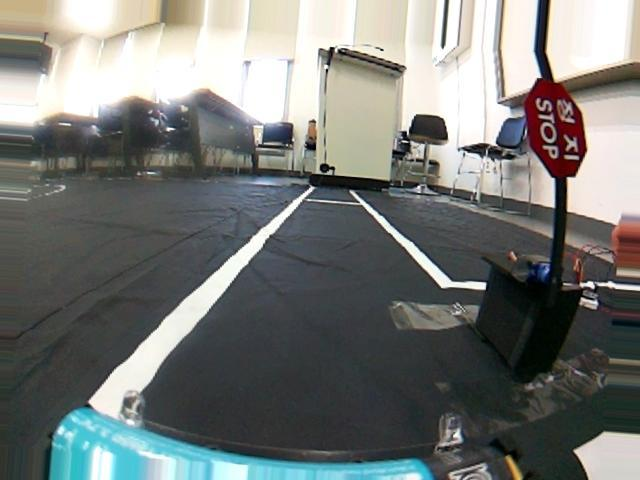sign_stop: (524, 78, 590, 178)
straight: (4, 190, 640, 480)
